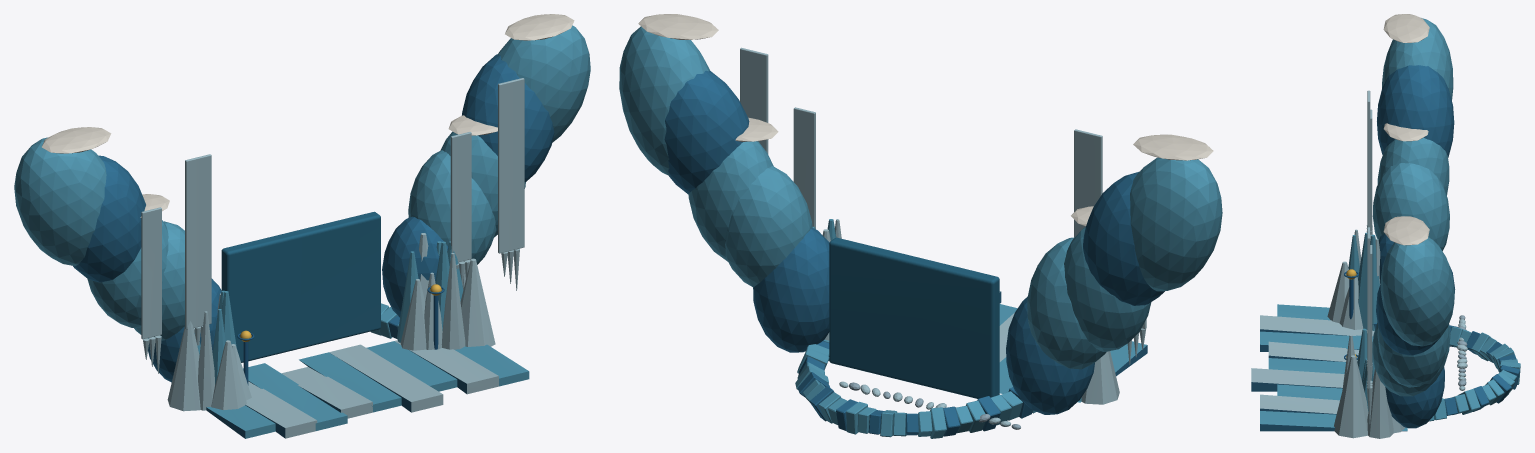
The model's file is glacier_frozen_fall_landmark_v1.glb.
3 views of the same model, side by side, from view 1: azimuth 30°, elevation 25°; view 2: azimuth 150°, elevation 25°; view 3: azimuth 270°, elevation 25° (orthographic). The views are drawn at different scales.
Visible parts, largest first — view 1: glacier_frozen_fall_landmark_v1; view 2: glacier_frozen_fall_landmark_v1; view 3: glacier_frozen_fall_landmark_v1.
Boxes of the visible parts, x1,y1,x2,y2 form: glacier_frozen_fall_landmark_v1: [14, 14, 590, 438]; glacier_frozen_fall_landmark_v1: [619, 14, 1222, 438]; glacier_frozen_fall_landmark_v1: [1251, 14, 1520, 438].
Size of the model in its own units: 33.43 by 16.32 by 15.52.
